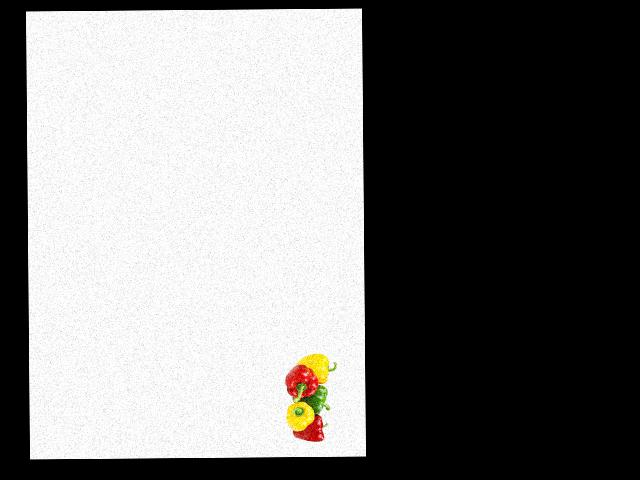bell_pepper: (297, 415, 329, 443)
